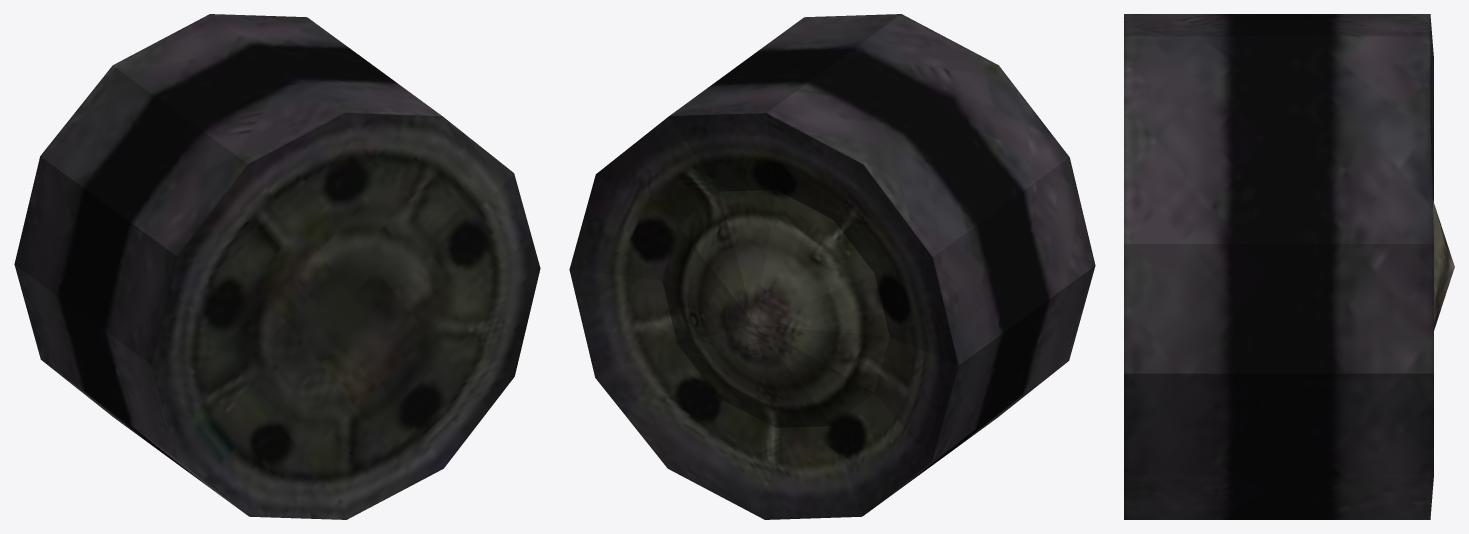
Rendered from wheel_front.obj.
3 views of the same model, side by side, from view 1: azimuth 30°, elevation 25°; view 2: azimuth 150°, elevation 25°; view 3: azimuth 270°, elevation 25° (orthographic). The views are drawn at different scales.
Visible parts, largest first — view 1: LOD01_t-35; view 2: LOD01_t-35; view 3: LOD01_t-35.
Part boxes in pixels (bbox=[...]): LOD01_t-35: bbox=[14, 14, 540, 519]; LOD01_t-35: bbox=[569, 14, 1095, 519]; LOD01_t-35: bbox=[1124, 14, 1454, 519].
Size of the model in its own units: 0.989 by 0.989 by 0.6439.
1 material, 1 textured.
